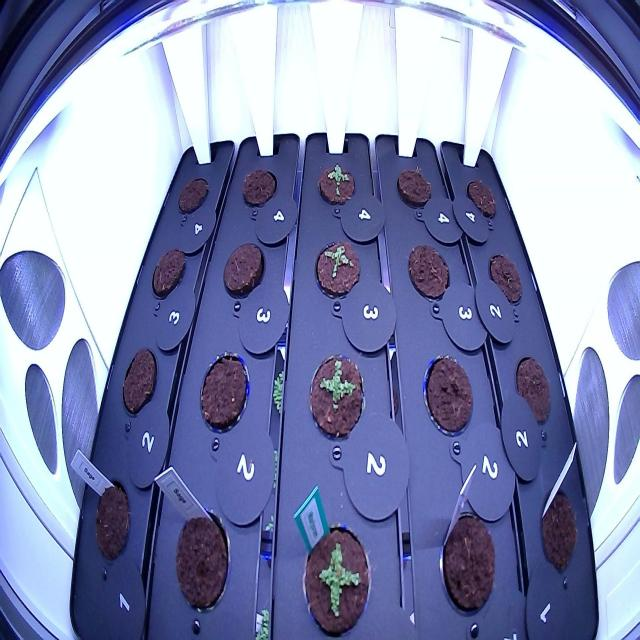germination: (296, 517, 374, 637), (304, 345, 368, 453), (307, 232, 364, 302), (315, 161, 360, 213)
pod: (165, 498, 234, 622), (433, 504, 499, 619), (195, 339, 252, 448), (417, 343, 478, 442), (86, 462, 135, 570), (509, 348, 556, 437), (535, 480, 579, 575), (217, 233, 266, 313), (118, 337, 162, 420), (484, 244, 530, 314), (404, 237, 452, 304), (146, 236, 190, 305), (461, 168, 504, 229), (391, 160, 434, 219), (239, 159, 280, 215), (174, 167, 213, 220)
